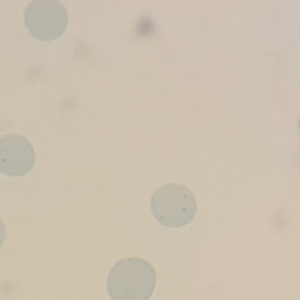erythrocyte: (23, 1, 71, 43)
punctate reticulocyte: (149, 182, 199, 230), (105, 255, 158, 300), (1, 132, 38, 179)
